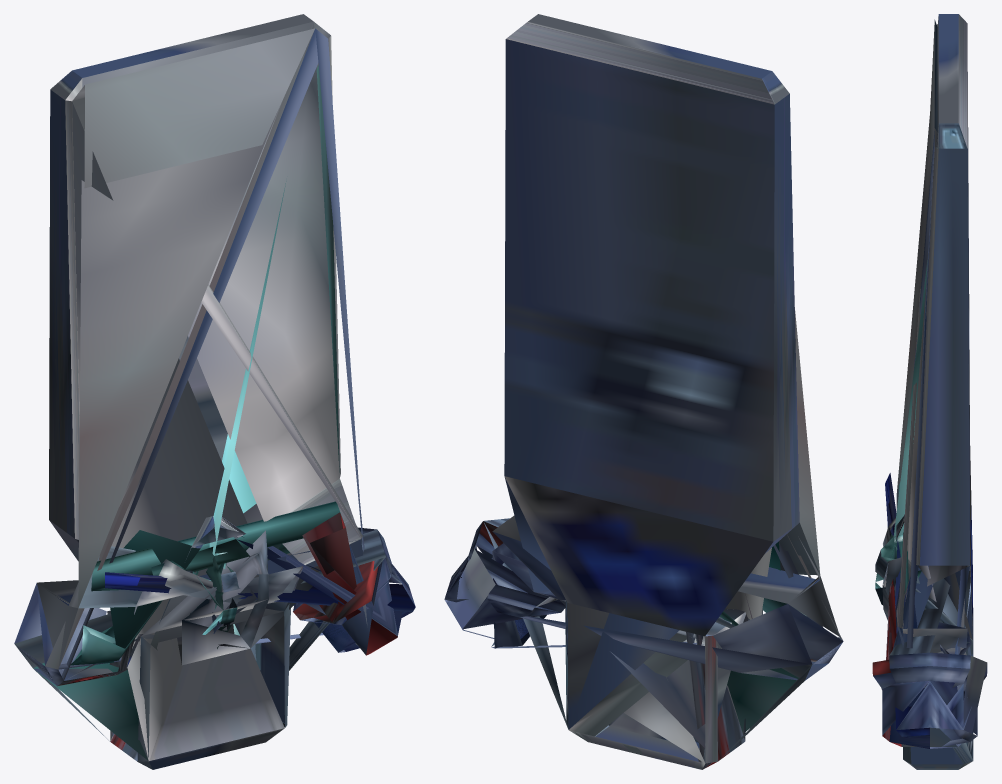
File: eqp_tool_datapad_s02_l0.fbx
3 views of the same model, side by side, from view 1: azimuth 30°, elevation 25°; view 2: azimuth 150°, elevation 25°; view 3: azimuth 270°, elevation 25° (orthographic). The views are drawn at different scales.
Parts seen in each view (by area): view 1: mesh_node; view 2: mesh_node; view 3: mesh_node.
Part boxes in pixels (x1,y1,x2,y2): mesh_node: (14, 14, 415, 769); mesh_node: (444, 14, 843, 769); mesh_node: (872, 14, 987, 769).
Bounding box in the file's own units: 0.1114 × 0.198 × 0.0306.
